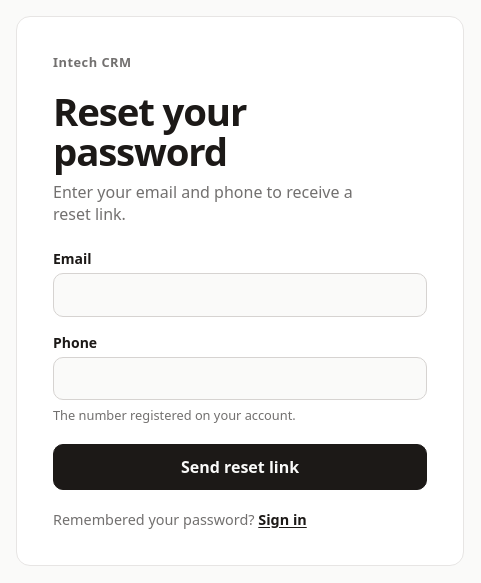
ForgotPasswordPage › envia o payload correto e mostra sucesso genérico com link para sign-in
This screenshot has width=481, height=583.
Type "ada@example.com" into the field labelled "Email" at point(240, 295), box [53,273,427,317]
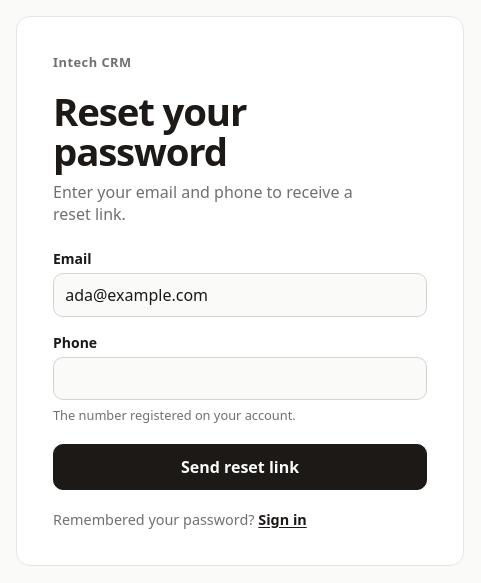
Type "+5511988887777" into the field labelled "Phone" at point(240, 379), box [53,357,427,400]
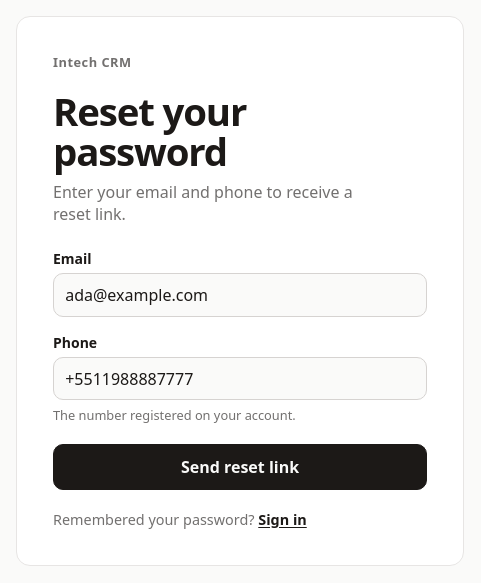
Click the button "Send reset link" at point(240, 467), box [53,444,427,490]
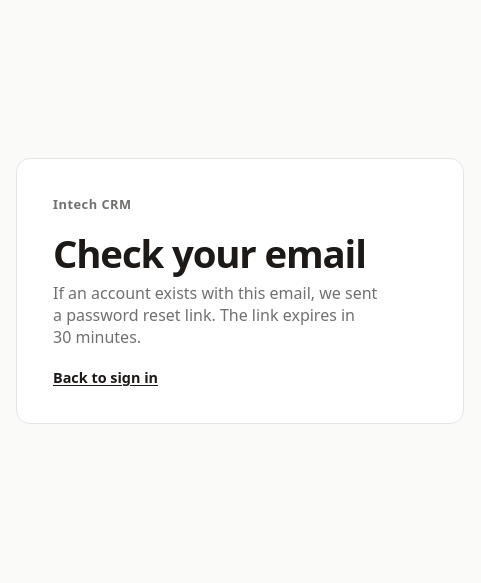
Result: the heading "Check your email" is shown at [53,226,366,278]
Result: the text "we sent a password reset link" is shown at [53,282,377,348]
